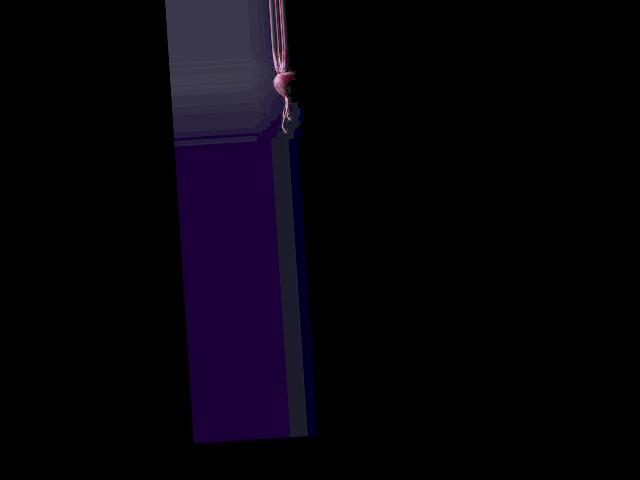beet: (270, 46, 299, 133)
